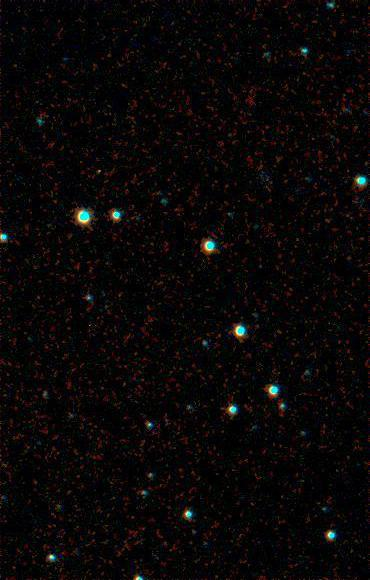star: (87, 158, 117, 188)
